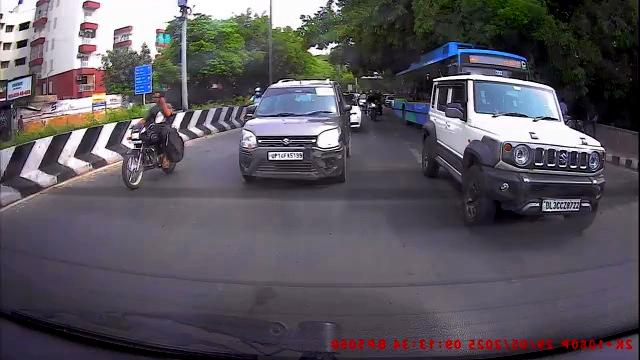motorcycle_without_helmet: (119, 90, 186, 192)
